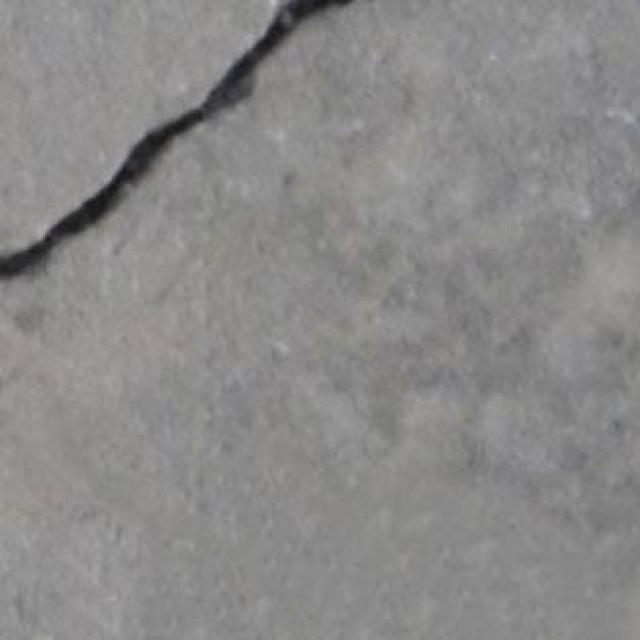diagonal crack: (0, 0, 349, 282)
